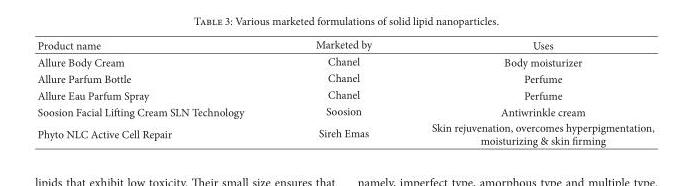table: (36, 36, 653, 147)
table column: (401, 36, 653, 147), (36, 36, 279, 147), (279, 36, 401, 147)
table column header: (36, 36, 653, 52)
table row: (36, 119, 653, 147), (36, 52, 653, 69), (36, 69, 653, 86), (36, 102, 653, 119), (36, 36, 653, 52), (36, 86, 653, 102)
